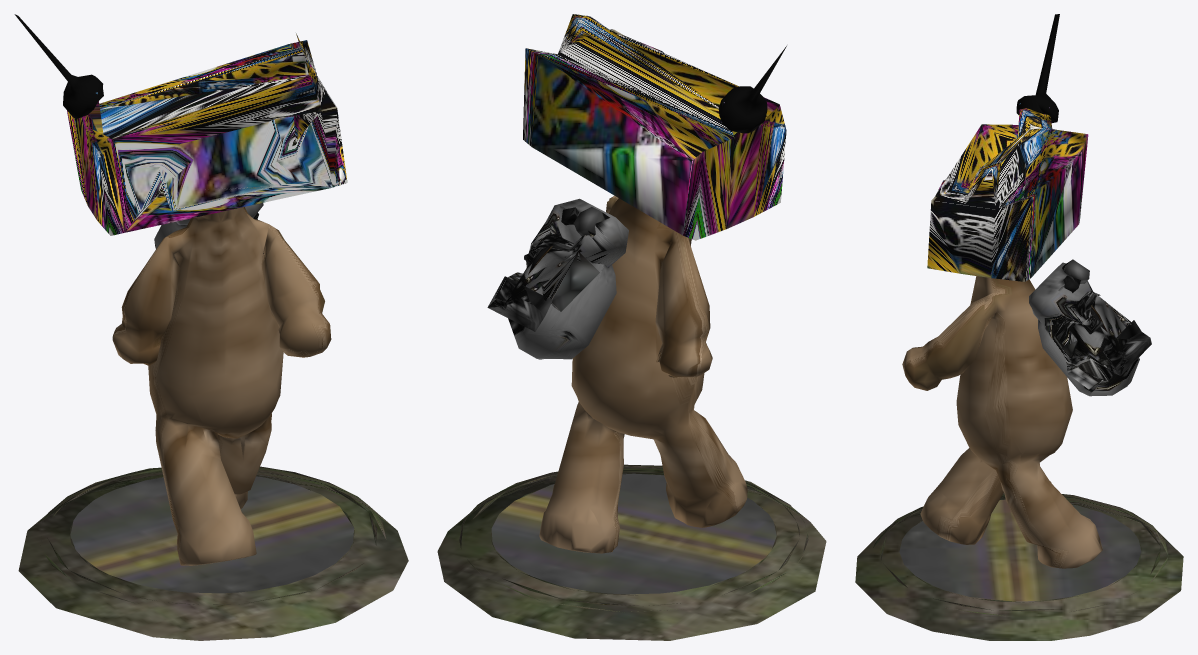
3 renders of one model, left to right at view 1: azimuth 30°, elevation 25°; view 2: azimuth 150°, elevation 25°; view 3: azimuth 270°, elevation 25°, orthographic. The views are drawn at different scales.
Size of the model in its own units: 1.46 by 2.32 by 1.42.
Materials: 6 (5 with a texture image).
